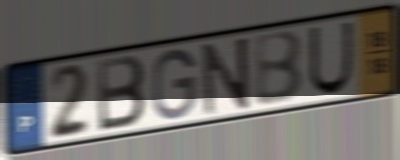2: (46, 61, 93, 143)
B: (251, 28, 305, 110), (95, 52, 148, 135)
G: (150, 47, 199, 123)
N: (200, 34, 253, 119)
U: (307, 19, 356, 98)
